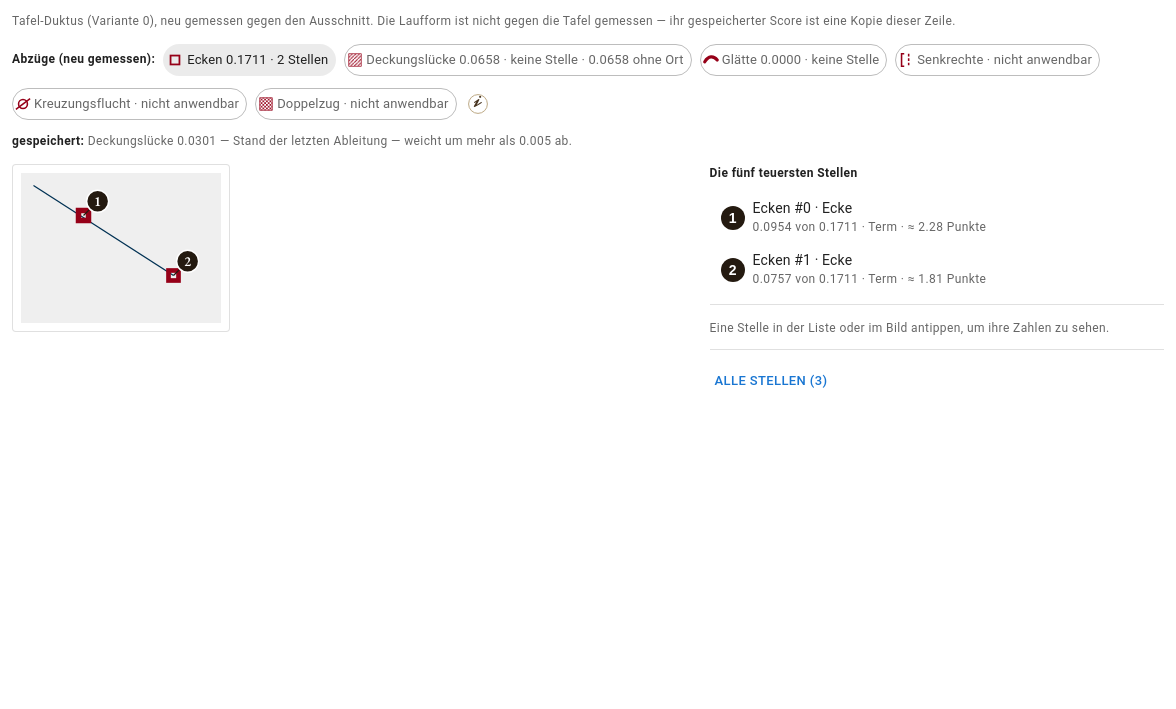
it: PenaltyPanel › lists the part without a place, and draws nothing for it
Click the button "Alle Stellen (3)": (771, 382) [710,360,832,404]
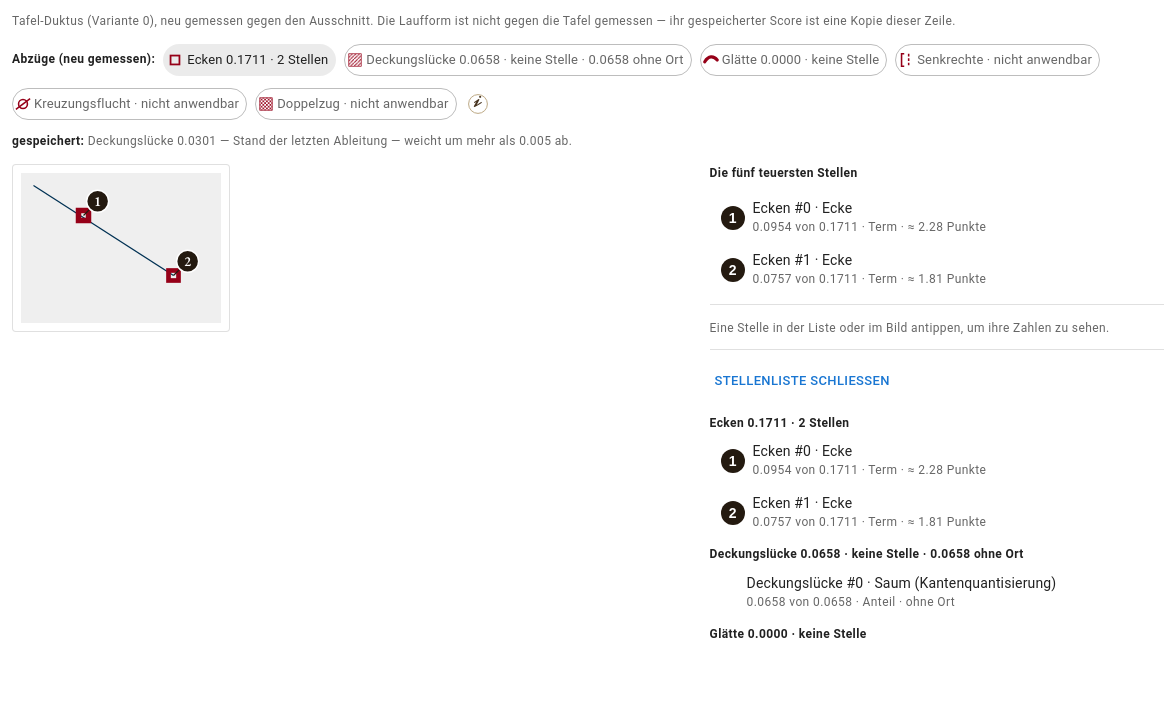
Check: the 8th button shows "ohne Ort"
Click the 8th button: (937, 593) [710,569,1164,617]
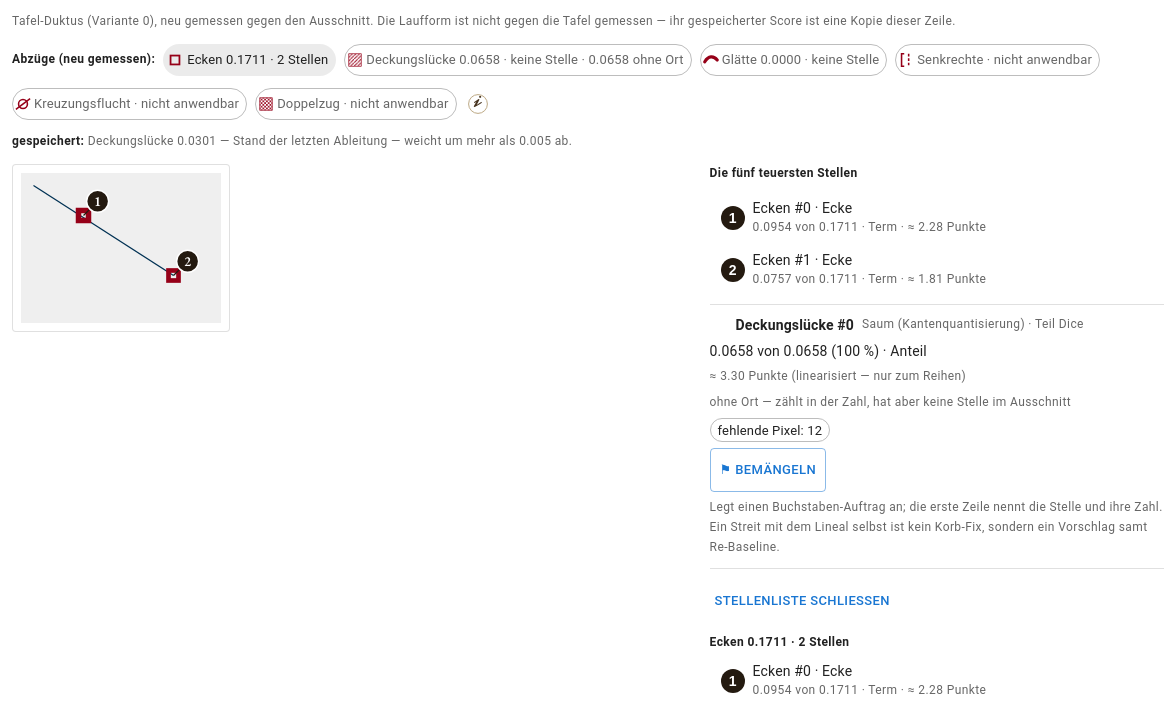
Check: the text "ohne Ort — zählt in der Zahl" is shown, box [710,394,1071,408]
